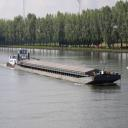tugboat: (7, 48, 33, 73)
